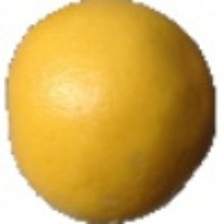grapes: (23, 32, 191, 202)
